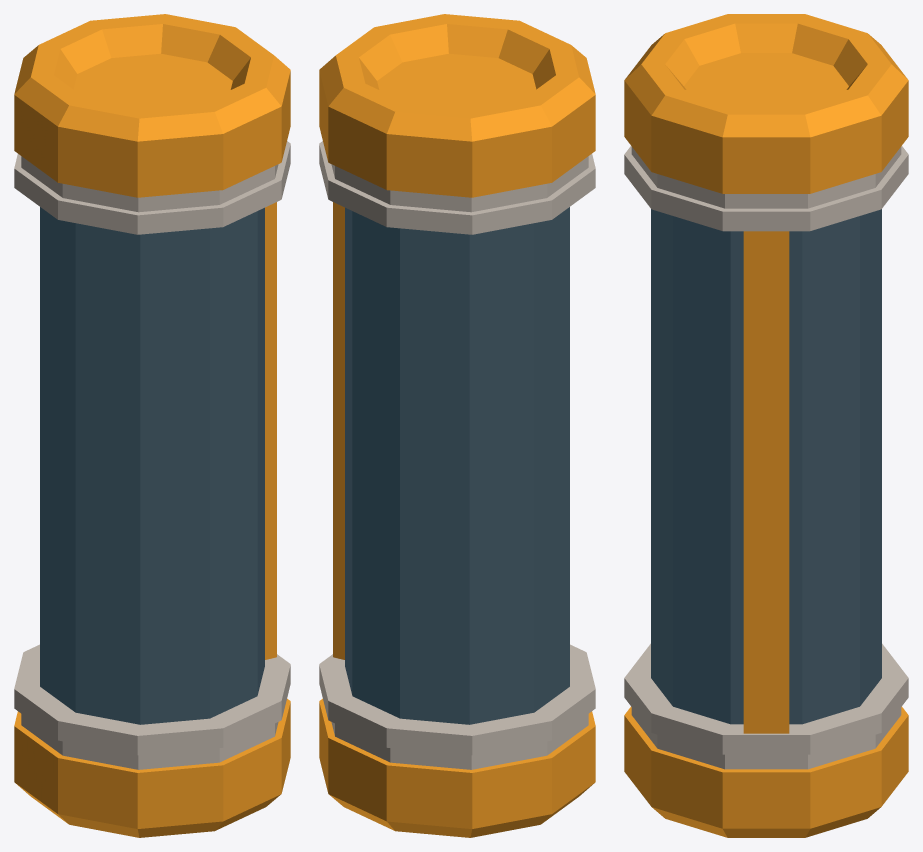
File: SM__Flask_02.glb
The picture shows the model from 3 angles, left to right: view 1: azimuth 30°, elevation 25°; view 2: azimuth 150°, elevation 25°; view 3: azimuth 270°, elevation 25°; orthographic projection.
Visible parts, largest first — view 1: SM__Flask_02; view 2: SM__Flask_02; view 3: SM__Flask_02.
Boxes of the visible parts, box(x1,y1,x2,y2) form: SM__Flask_02: box(14, 14, 290, 837); SM__Flask_02: box(319, 14, 595, 837); SM__Flask_02: box(624, 14, 908, 837).
Size of the model in its own units: 0.0615 by 0.1816 by 0.0647.
Materials: 2 (1 with a texture image).
